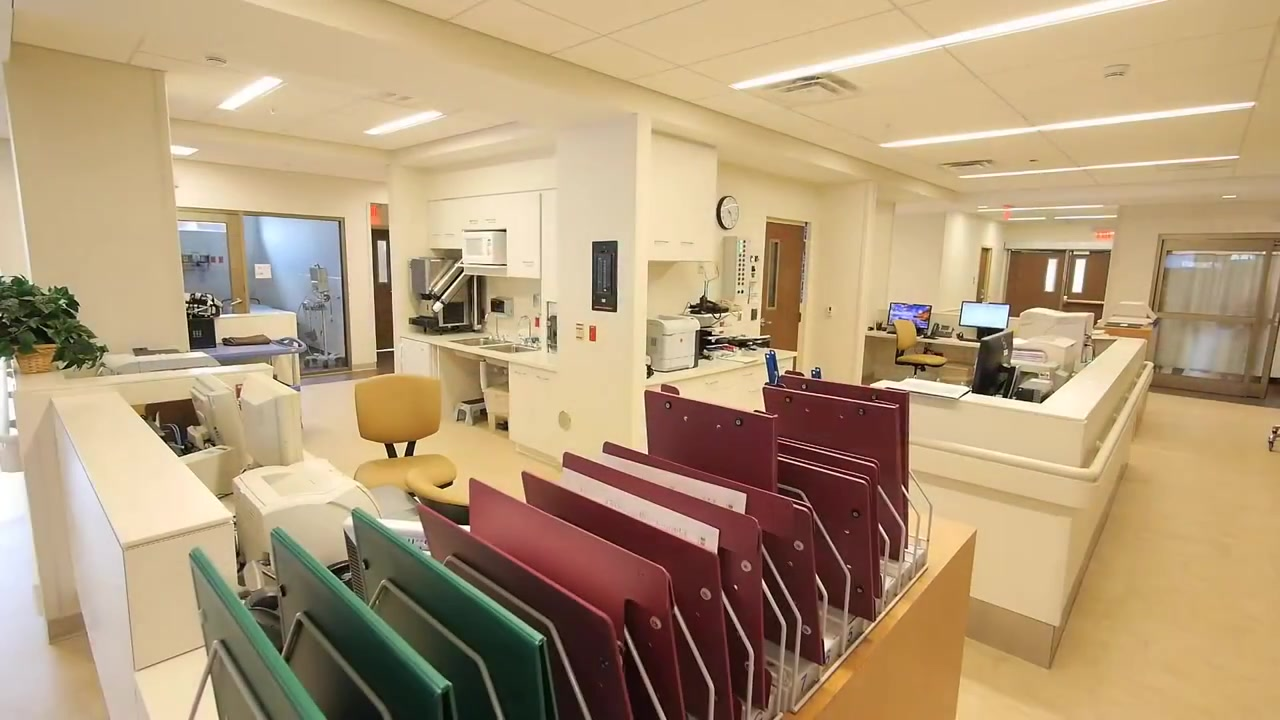cabinet: (429, 190, 542, 279), (651, 131, 717, 263)
chair: (353, 374, 458, 498), (404, 469, 479, 524), (890, 320, 947, 382)
computer: (231, 372, 305, 472), (184, 375, 248, 470), (973, 329, 1020, 399), (883, 302, 934, 335), (959, 301, 1011, 333)
counter: (869, 338, 1150, 668)
countertop: (46, 399, 231, 547), (1045, 336, 1148, 419), (643, 345, 798, 385), (402, 332, 556, 368)
curtain: (1160, 248, 1280, 375)
door_handle: (229, 297, 244, 308), (761, 320, 773, 327)
faucet: (519, 315, 540, 349), (485, 313, 508, 344)
hallway_assist_bar: (903, 436, 1084, 513), (1086, 361, 1156, 484)
handle: (704, 378, 723, 388), (744, 386, 762, 395), (535, 374, 549, 382), (743, 370, 755, 378), (514, 370, 527, 377), (653, 239, 670, 244), (521, 260, 535, 265), (776, 365, 786, 371), (680, 240, 693, 244), (431, 232, 441, 236), (485, 219, 497, 222), (469, 220, 480, 223), (446, 233, 456, 236)
push_latch: (1062, 298, 1103, 307)
sink: (478, 344, 541, 358), (449, 333, 505, 346)
telephone: (933, 322, 954, 339)
